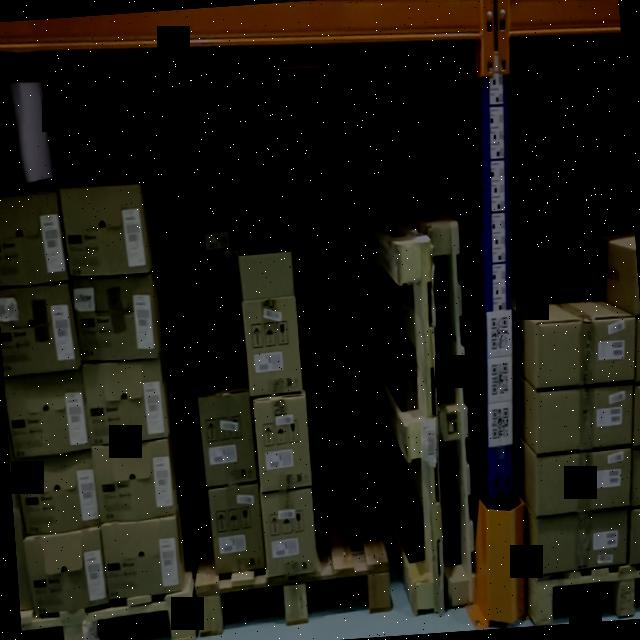box: (238, 253, 301, 396), (59, 185, 144, 278), (22, 527, 105, 611), (13, 449, 97, 529), (92, 438, 174, 519), (537, 317, 633, 386), (74, 278, 154, 360), (83, 362, 165, 442), (537, 449, 630, 519), (538, 385, 631, 454), (103, 516, 179, 593), (537, 511, 625, 575), (198, 391, 255, 489), (262, 484, 318, 576), (254, 399, 310, 489), (208, 486, 264, 574)
